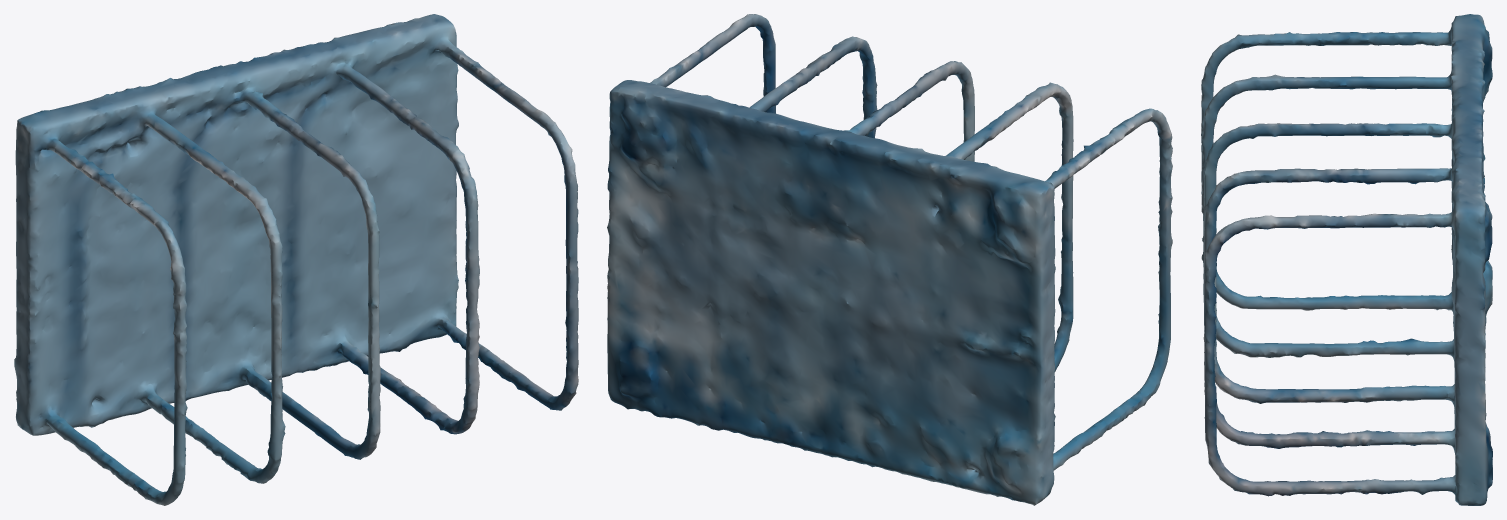
Rendered from sorter.glb.
3 views of the same model, side by side, from view 1: azimuth 30°, elevation 25°; view 2: azimuth 150°, elevation 25°; view 3: azimuth 270°, elevation 25° (orthographic). The views are drawn at different scales.
Size of the model in its own units: 0.9955 by 0.7052 by 0.612.
